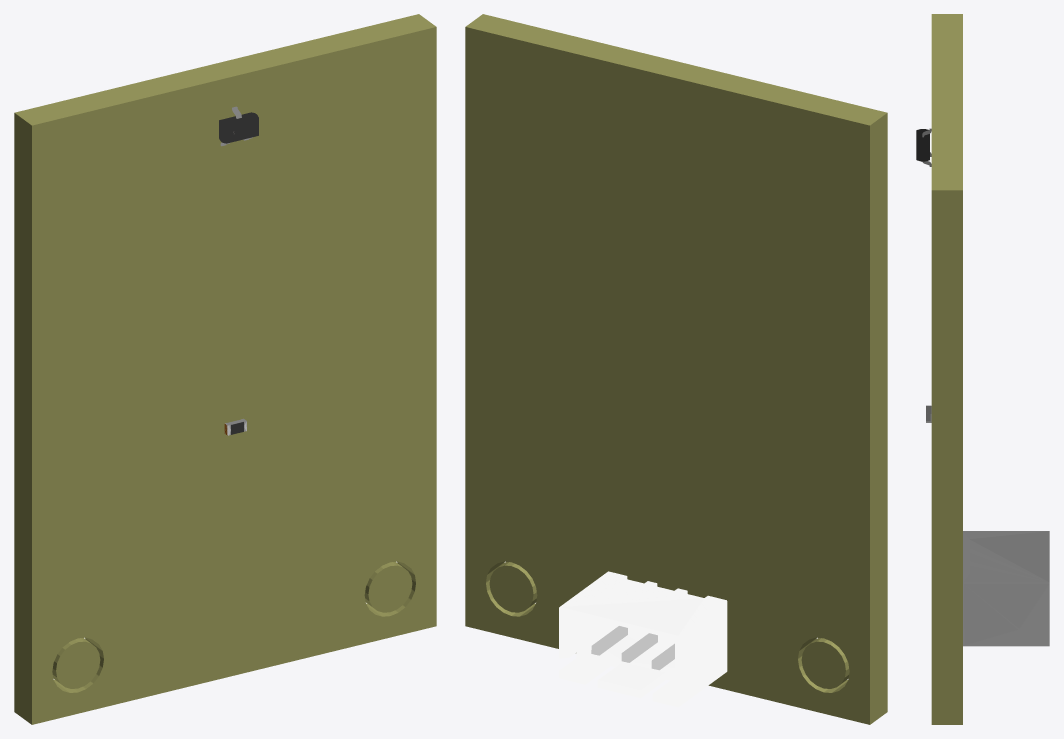
Rendered from OBJ_arduciblesmdv3.obj.
3 views of the same model, side by side, from view 1: azimuth 30°, elevation 25°; view 2: azimuth 150°, elevation 25°; view 3: azimuth 270°, elevation 25° (orthographic). The views are drawn at different scales.
Bounding box in the file's own units: 133 × 188 × 42.38.
